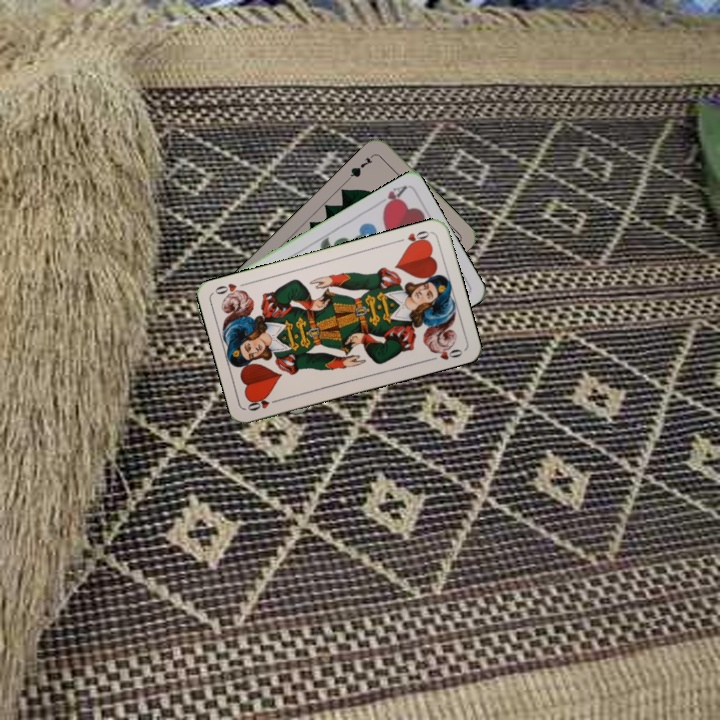G7: (345, 150, 377, 182)
HA: (372, 182, 409, 213)
HO: (393, 227, 433, 249), (243, 393, 283, 413)
